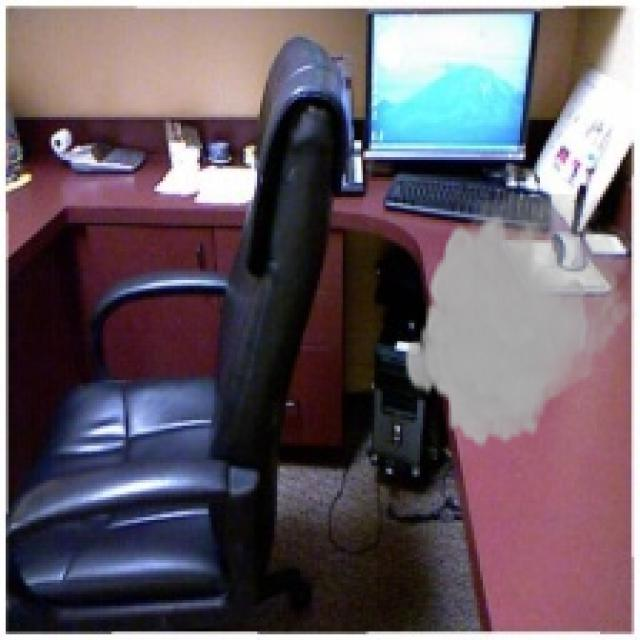smoke: (403, 194, 637, 452)
